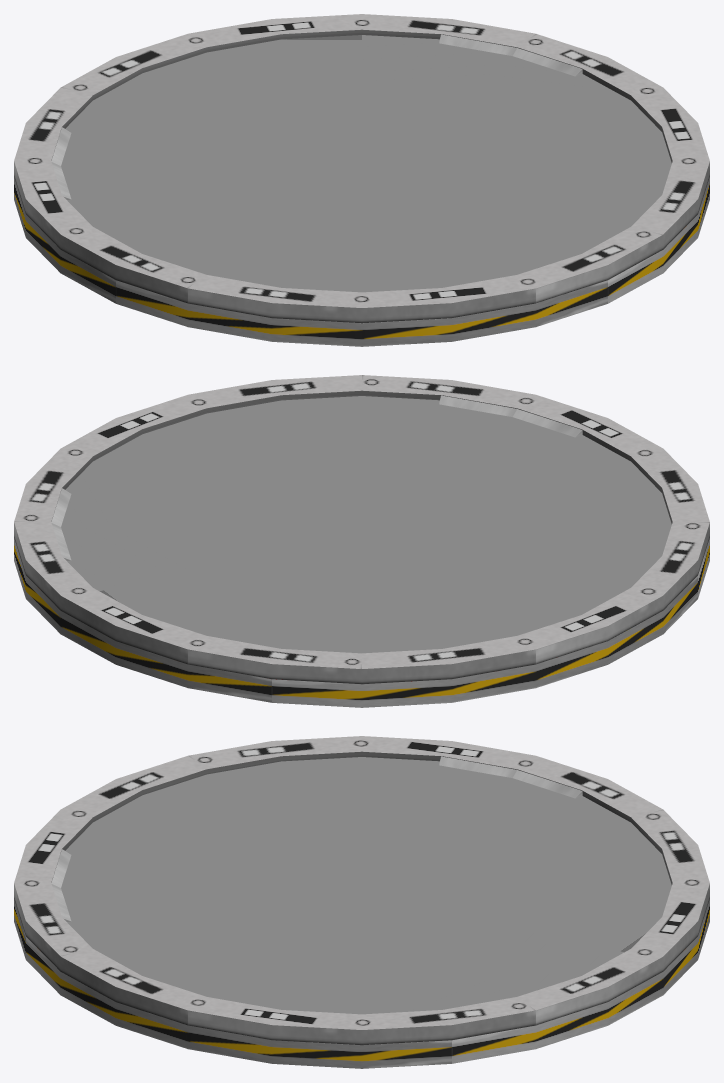
Rendered from LargeDockingRing.FBX.
3 renders of one model, top to bottom at view 1: azimuth 30°, elevation 25°; view 2: azimuth 150°, elevation 25°; view 3: azimuth 270°, elevation 25°, orthographic.
Parts seen in each view (by area): view 1: Cylinder002, HexPortBodyOpen, Cylinder001, AlignmentTool003, AlignmentTool002; view 2: Cylinder002, HexPortBodyOpen, Cylinder001, AlignmentTool001, AlignmentTool003; view 3: Cylinder002, HexPortBodyOpen, Cylinder001, AlignmentTool002, AlignmentTool001.
Part boxes in pixels (<box>): Cylinder002: <box>38,35,686,323</box>; HexPortBodyOpen: <box>14,14,709,323</box>; Cylinder001: <box>14,177,709,346</box>; AlignmentTool003: <box>439,34,582,76</box>; AlignmentTool002: <box>51,127,71,199</box>; Cylinder002: <box>37,396,685,684</box>; HexPortBodyOpen: <box>14,375,709,684</box>; Cylinder001: <box>14,538,709,707</box>; AlignmentTool001: <box>439,395,582,437</box>; AlignmentTool003: <box>51,488,71,560</box>; Cylinder002: <box>37,757,685,1045</box>; HexPortBodyOpen: <box>14,736,709,1045</box>; Cylinder001: <box>14,899,709,1068</box>; AlignmentTool002: <box>439,756,582,798</box>; AlignmentTool001: <box>51,849,71,921</box>.
Bounding box in the file's own units: 3.75 × 0.2309 × 3.75.
1 material, 1 textured.
